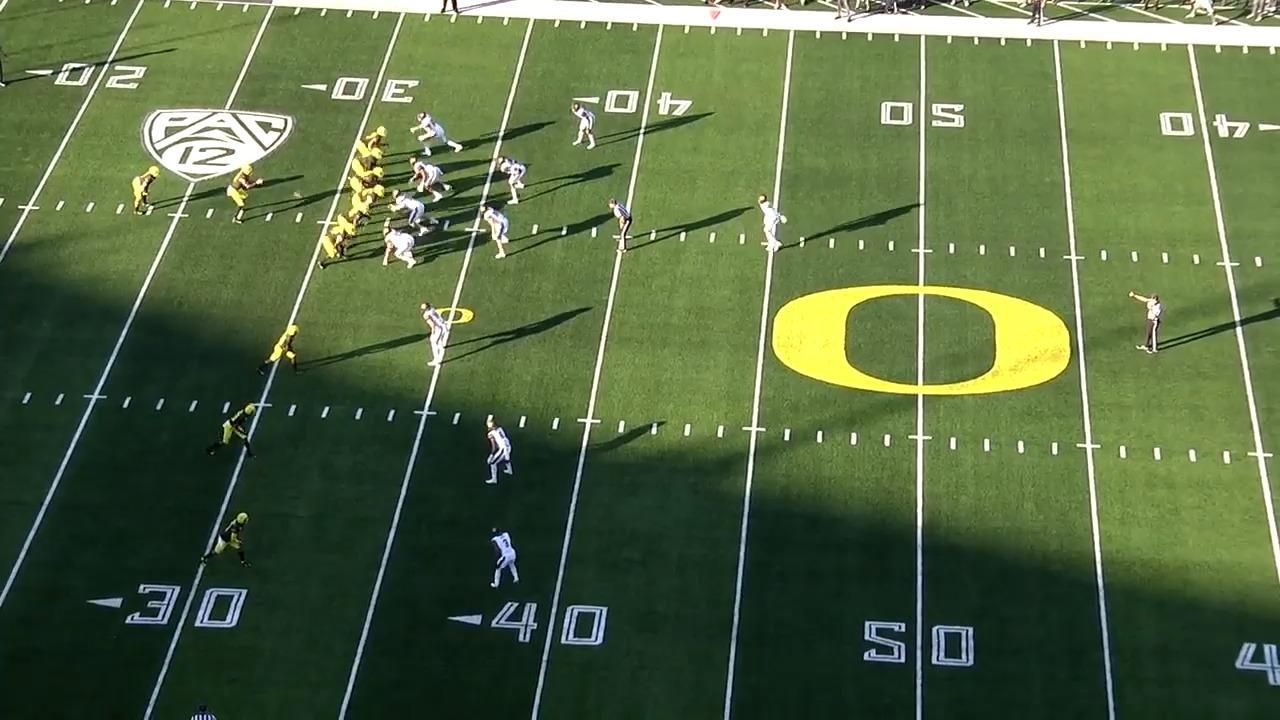20L: (24, 62, 148, 90)
30L: (86, 580, 249, 629), (296, 75, 422, 102)
40L: (448, 599, 610, 650), (571, 87, 692, 116)
40R: (1158, 108, 1280, 140), (1235, 638, 1280, 688)
50: (860, 617, 976, 668), (876, 100, 971, 129)
